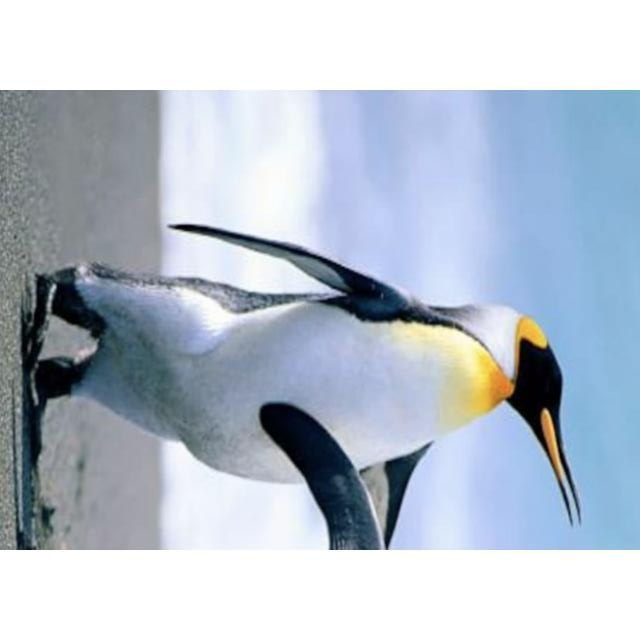penguin: (25, 217, 582, 547)
